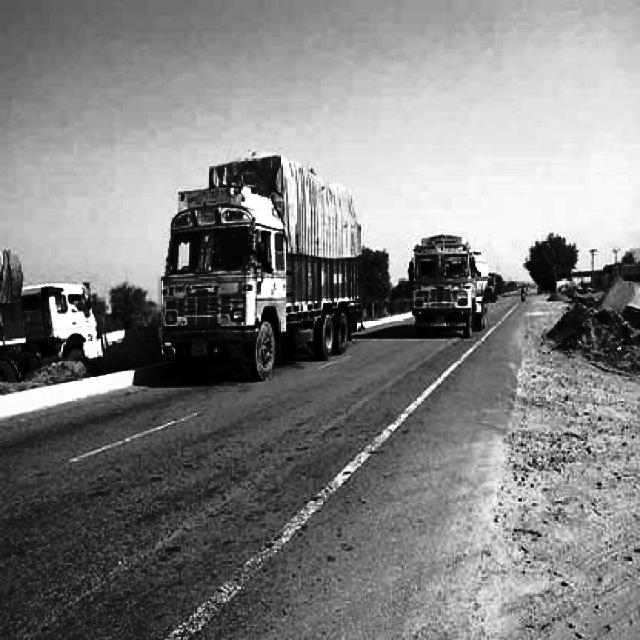HCV: (162, 158, 366, 374), (403, 231, 483, 322)
